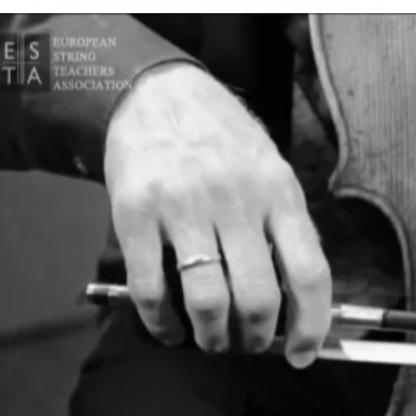good: (94, 152, 337, 380)
